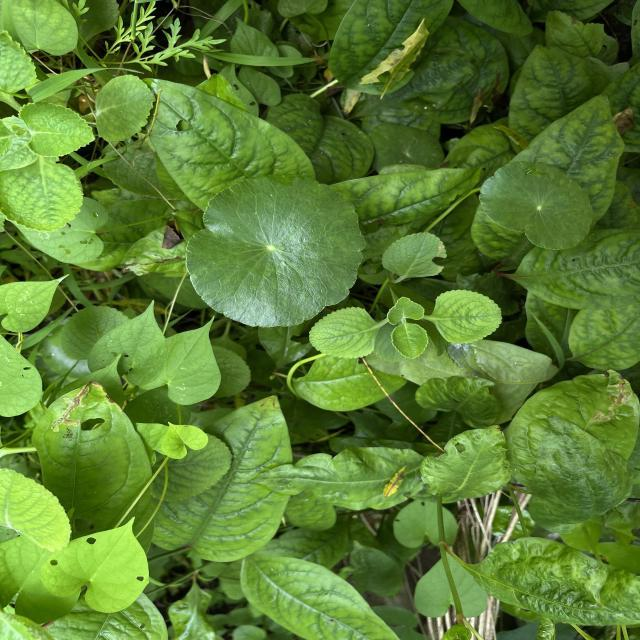Bacopa monnieri: (182, 172, 368, 331), (476, 158, 596, 254)
